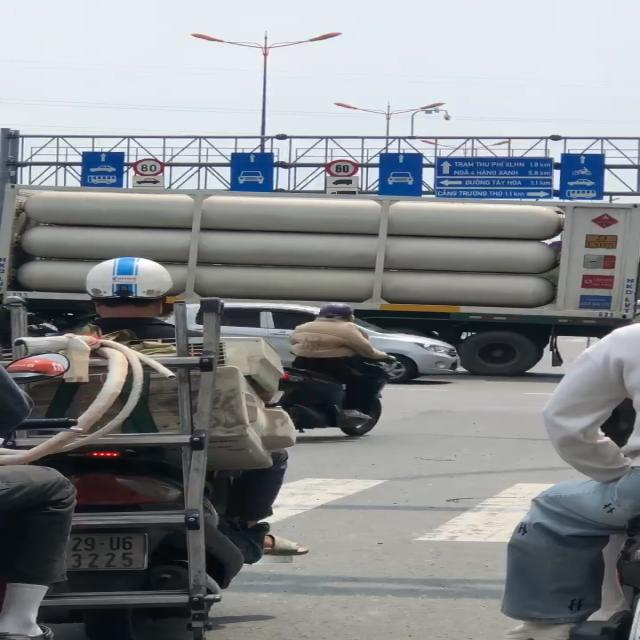Bien bao toc do toi da cho phep: (325, 158, 365, 179), (132, 157, 168, 178)
